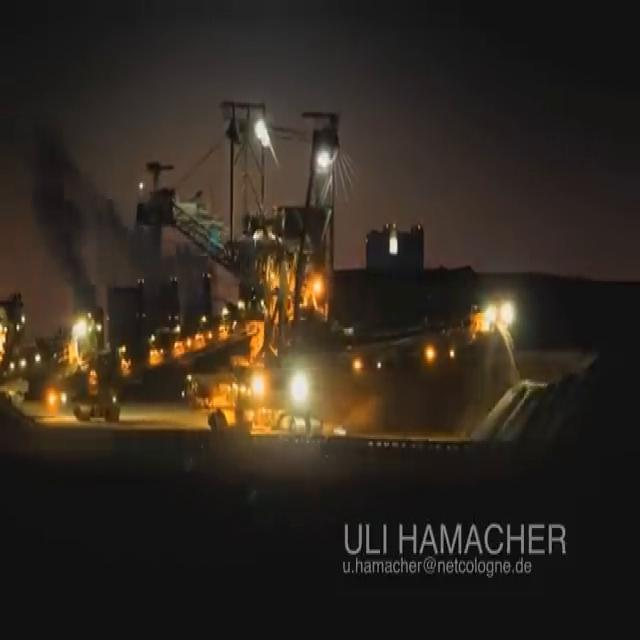smoke: (28, 92, 145, 315)
